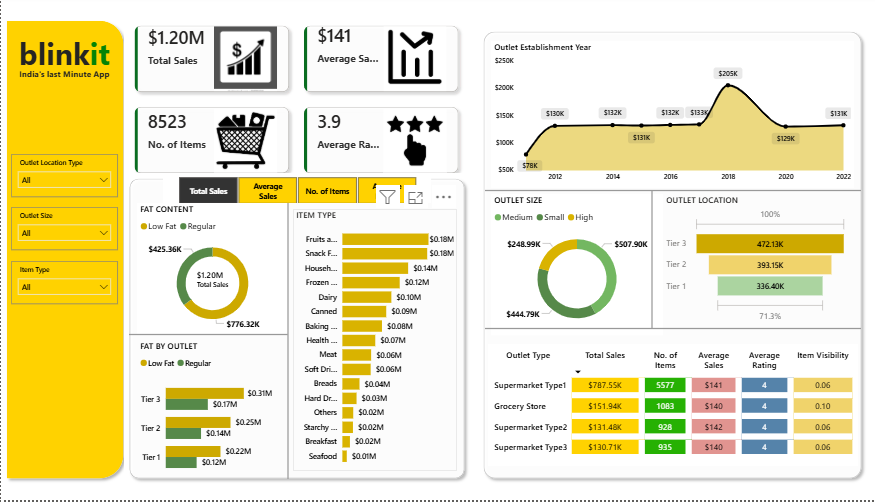

The dashboard page shown, as its layout file describes it:
{"tool":"powerbi","page":{"name":"Page 1","canvas":[1400,800],"ordinal":0},"visuals":[{"type":"shape","box":[0,24,204.8,750.4],"z":0},{"type":"textbox","box":[16,46.4,171.2,102.4],"z":1000},{"type":"textbox","box":[16,86.4,171.2,51.2],"z":2000},{"type":"cardVisual","fields":{"Data":["BlinkIT Grocery Data.Total Sales","BlinkIT Grocery Data.Average Sales","BlinkIT Grocery Data.No. of Items","BlinkIT Grocery Data.Average Rating"]},"box":[196.8,24,553.6,270.4],"z":3000},{"type":"shape","box":[196.8,276.8,553.6,497.6],"z":4000},{"type":"donutChart","title":"FAT CONTENT","fields":{"Y":["BlinkIT Grocery Data.Total Sales"],"Category":["BlinkIT Grocery Data.Item Fat Content"]},"box":[217.6,324.8,241.6,211.2],"z":5000},{"type":"slicer","fields":{"Values":["Metrics.Metrics"]},"box":[259.2,276.8,428.8,48],"z":6000},{"type":"cardVisual","fields":{"Data":["BlinkIT Grocery Data.Total Sales"]},"box":[296,417.6,86.4,57.6],"z":7000},{"type":"clusteredBarChart","title":"FAT BY OUTLET","fields":{"Y":["BlinkIT Grocery Data.Total Sales"],"Category":["BlinkIT Grocery Data.Outlet Location Type"],"Series":["BlinkIT Grocery Data.Item Fat Content"]},"box":[217.6,544,220.8,230.4],"z":8000},{"type":"shape","box":[204.8,520,254.4,30.4],"z":9000},{"type":"shape","box":[451.2,324.8,16,441.6],"z":10000},{"type":"clusteredBarChart","title":"ITEM TYPE","fields":{"Y":["BlinkIT Grocery Data.Total Sales"],"Category":["BlinkIT Grocery Data.Item Type"]},"box":[467.2,334.4,262.4,419.2],"z":11000},{"type":"shape","box":[763.2,41.6,622.4,732.8],"z":12000},{"type":"lineChart","title":"Outlet Establishment Year","fields":{"Category":["BlinkIT Grocery Data.Outlet Establishment Year"],"Y":["BlinkIT Grocery Data.Total Sales"]},"box":[784,65.6,580.8,235.2],"z":13000},{"type":"shape","box":[774.4,294.4,601.6,20.8],"z":14000},{"type":"donutChart","title":"OUTLET SIZE","fields":{"Y":["BlinkIT Grocery Data.Total Sales"],"Category":["BlinkIT Grocery Data.Outlet Size"]},"box":[784,310.4,275.2,225.6],"z":15000},{"type":"shape","box":[1035.2,305.6,12.8,220.8],"z":16000},{"type":"funnel","title":"OUTLET LOCATION","fields":{"Y":["Sum(BlinkIT Grocery Data.Sales)"],"Category":["BlinkIT Grocery Data.Outlet Location Type"]},"box":[1059.2,310.4,299.2,209.6],"z":17000},{"type":"shape","box":[774.4,515.2,601.6,20.8],"z":18000},{"type":"pivotTable","fields":{"Values":["BlinkIT Grocery Data.Total Sales","BlinkIT Grocery Data.No. of Items","BlinkIT Grocery Data.Average Sales","BlinkIT Grocery Data.Average Rating","Avg(BlinkIT Grocery Data.Item Visibility)"],"Rows":["BlinkIT Grocery Data.Outlet Type"]},"box":[779.2,550.4,592,195.2],"z":19000},{"type":"slicer","fields":{"Values":["BlinkIT Grocery Data.Outlet Location Type"]},"box":[16,246.4,171.2,68.8],"z":19001},{"type":"slicer","fields":{"Values":["BlinkIT Grocery Data.Outlet Size"]},"box":[16,331.2,171.2,68.8],"z":19002},{"type":"slicer","fields":{"Values":["BlinkIT Grocery Data.Item Type"]},"box":[16,417.6,171.2,68.8],"z":19003}]}

Visuals, with their boxes in screenshot pixels (x1, y1, x2, y2), scaled from the page's 1400x800 canvas onto the 875x502 screenshot:
shape: bbox=[0, 15, 128, 486]
textbox: bbox=[10, 29, 117, 93]
textbox: bbox=[10, 54, 117, 86]
cardVisual - BlinkIT Grocery Data.Total Sales x BlinkIT Grocery Data.Average Sales: bbox=[123, 15, 469, 185]
shape: bbox=[123, 174, 469, 486]
"FAT CONTENT" donutChart: bbox=[136, 204, 287, 336]
slicer - Metrics.Metrics: bbox=[162, 174, 430, 204]
cardVisual - BlinkIT Grocery Data.Total Sales: bbox=[185, 262, 239, 298]
"FAT BY OUTLET" clusteredBarChart: bbox=[136, 341, 274, 486]
shape: bbox=[128, 326, 287, 345]
shape: bbox=[282, 204, 292, 481]
"ITEM TYPE" clusteredBarChart: bbox=[292, 210, 456, 473]
shape: bbox=[477, 26, 866, 486]
"Outlet Establishment Year" lineChart: bbox=[490, 41, 853, 189]
shape: bbox=[484, 185, 860, 198]
"OUTLET SIZE" donutChart: bbox=[490, 195, 662, 336]
shape: bbox=[647, 192, 655, 330]
"OUTLET LOCATION" funnel: bbox=[662, 195, 849, 326]
shape: bbox=[484, 323, 860, 336]
pivotTable - BlinkIT Grocery Data.Total Sales x BlinkIT Grocery Data.No. of Items: bbox=[487, 345, 857, 468]
slicer - BlinkIT Grocery Data.Outlet Location Type: bbox=[10, 155, 117, 198]
slicer - BlinkIT Grocery Data.Outlet Size: bbox=[10, 208, 117, 251]
slicer - BlinkIT Grocery Data.Item Type: bbox=[10, 262, 117, 305]
